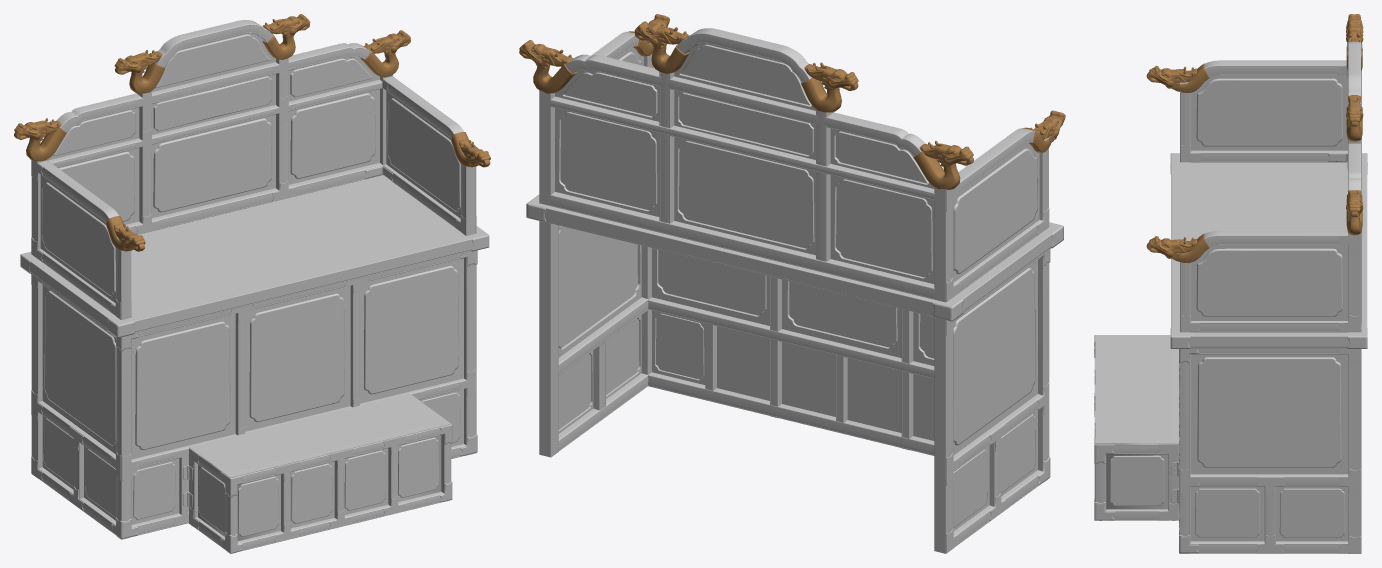
File: chair.fbx
3 views of the same model, side by side, from view 1: azimuth 30°, elevation 25°; view 2: azimuth 150°, elevation 25°; view 3: azimuth 270°, elevation 25° (orthographic). The views are drawn at different scales.
Visible parts, largest first — view 1: chair; view 2: chair; view 3: chair.
Part boxes in pixels (x1,y1,x2,y2): chair: (14, 14, 490, 553); chair: (519, 14, 1065, 553); chair: (1094, 14, 1367, 553).
Bounding box in the file's own units: 123 × 120 × 72.72.
